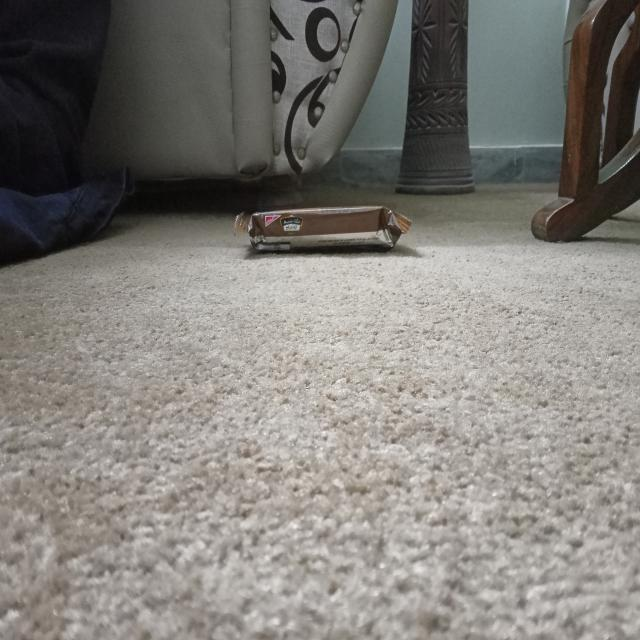Plastic: (234, 206, 413, 256)
